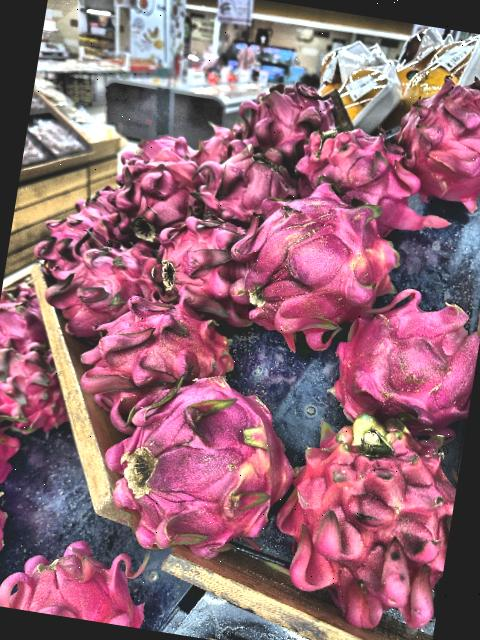buah-naga-matang: (267, 395, 467, 634), (105, 364, 299, 574), (224, 171, 395, 347), (286, 111, 466, 258), (331, 280, 480, 446), (84, 292, 232, 421), (0, 526, 153, 628), (387, 55, 480, 216), (42, 236, 168, 342), (148, 207, 248, 310), (230, 74, 332, 164), (188, 145, 294, 228), (110, 156, 196, 242), (0, 345, 77, 433), (41, 200, 113, 273), (0, 296, 60, 358), (125, 124, 193, 170), (190, 116, 237, 168), (0, 413, 23, 489), (0, 481, 12, 582)
